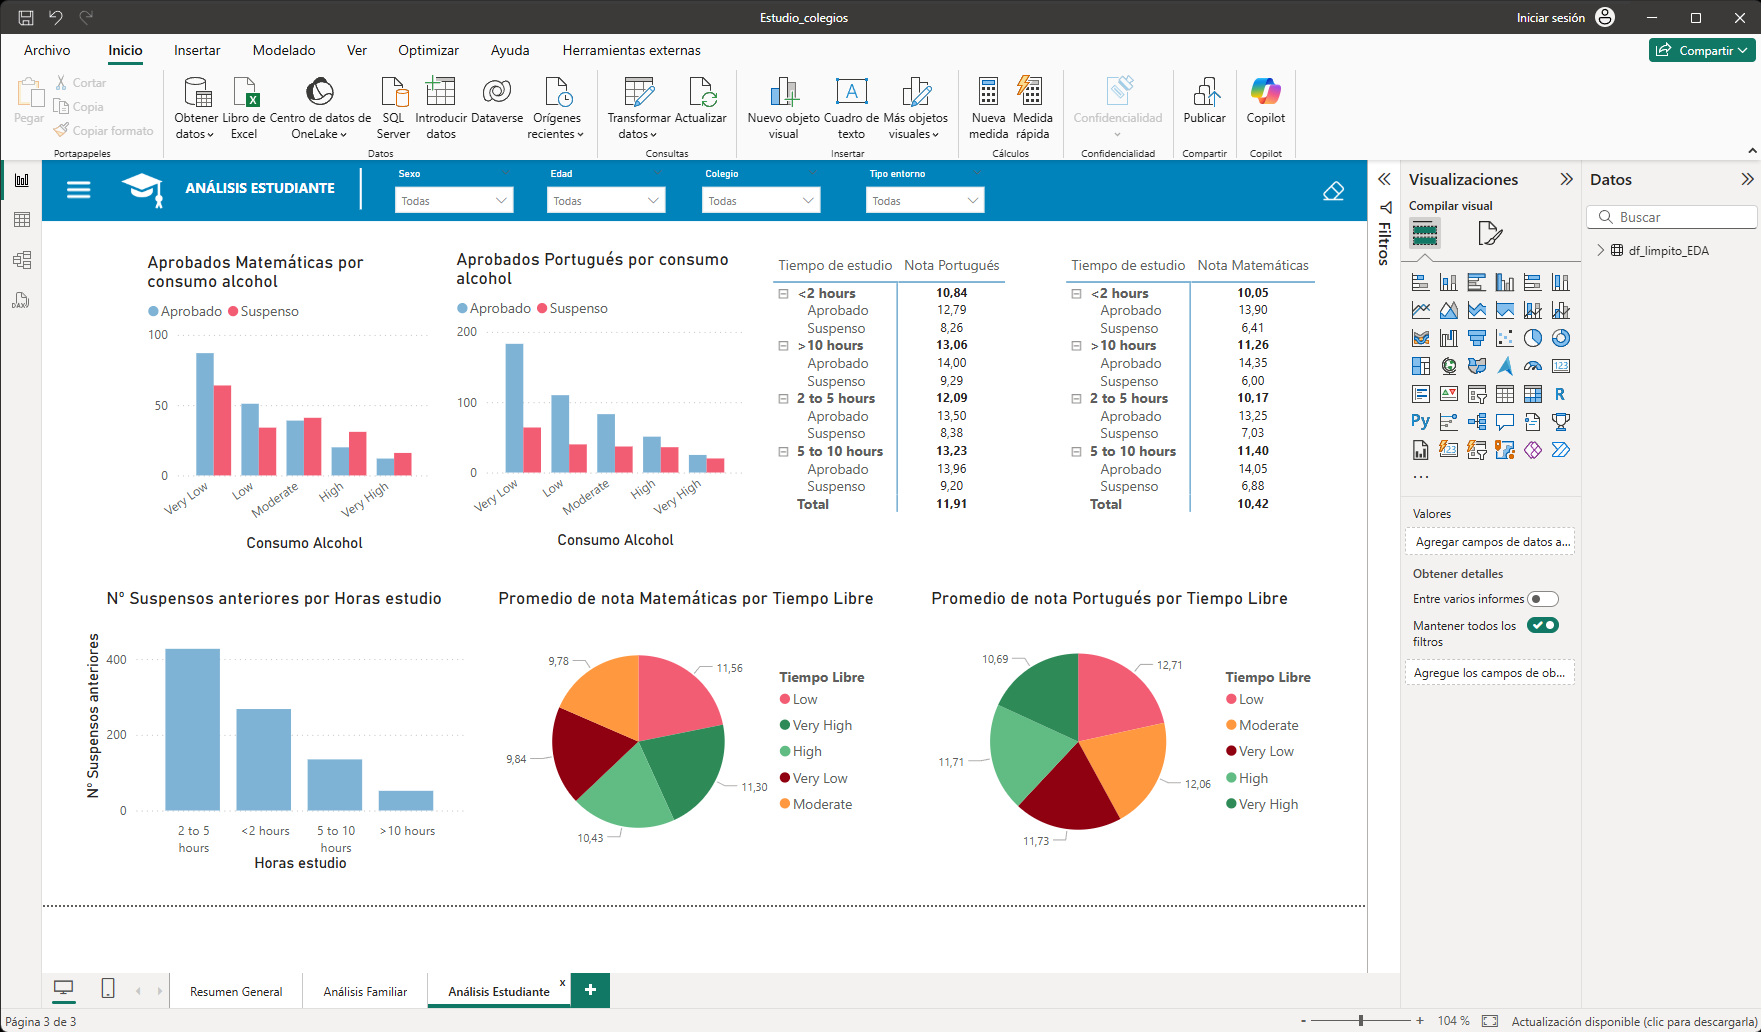

This screenshot's page, from the dashboard's own definition file:
{"tool":"powerbi","page":{"name":"Análisis Estudiante","canvas":[1280,720],"ordinal":2},"visuals":[{"type":"shape","box":[0,0,1280.3,59],"z":0,"group":"g1"},{"type":"clusteredColumnChart","fields":{"Category":["df_limpito_EDA.StudyTime_Description"],"Y":["CountNonNull(df_limpito_EDA.failures)"]},"box":[35.7,412.9,377.1,280],"z":0},{"type":"group","id":"g1","title":"Área Cabecera","box":[0,0,1280.3,175.5],"z":1000},{"type":"image","title":"Icono Borrar","box":[1227.5,15,40,30],"z":1500},{"type":"image","title":"Icono Informe","box":[71.2,5,50,50],"z":2000,"group":"g1"},{"type":"pivotTable","fields":{"Rows":["df_limpito_EDA.StudyTime_Desc","df_limpito_EDA.Por_Status"],"Values":["Avg(df_limpito_EDA.por_score)"]},"box":[701.4,87.1,244.3,295.7],"z":2000},{"type":"image","title":"Icono Navegador","box":[15,9,40,40],"z":3000,"group":"g1"},{"type":"pivotTable","fields":{"Rows":["df_limpito_EDA.StudyTime_Desc","df_limpito_EDA.Math_Status"],"Values":["Avg(df_limpito_EDA.math_score)"]},"box":[984.3,87.1,264.3,295.7],"z":3000},{"type":"slicer","title":"Filtro Tipo Entorno","fields":{"Values":["df_limpito_EDA.address"]},"box":[786.4,3,134.3,52.9],"z":3500},{"type":"slicer","title":"Filtro Colegio","fields":{"Values":["df_limpito_EDA.school"]},"box":[628.4,2.5,133.8,52.5],"z":4000},{"type":"pieChart","title":"Promedio de nota Matemáticas por Tiempo Libre","fields":{"Category":["df_limpito_EDA.FreeTimeClassification"],"Y":["Avg(df_limpito_EDA.math_score)"]},"box":[435.7,412.9,381.4,280],"z":4000},{"type":"slicer","title":"Filtro Edad","fields":{"Values":["df_limpito_EDA.age"]},"box":[478.4,3,133.8,52.5],"z":5000},{"type":"pieChart","title":"Promedio de nota Portugués por Tiempo Libre","fields":{"Category":["df_limpito_EDA.FreeTimeClassification"],"Y":["Avg(df_limpito_EDA.por_score)"]},"box":[854.3,412.9,394.3,280],"z":5000},{"type":"slicer","title":"Filtro Sexo","fields":{"Values":["df_limpito_EDA.sex"]},"box":[330.9,3,133.8,53],"z":6000},{"type":"clusteredColumnChart","title":"Aprobados Matemáticas por consumo alcohol","fields":{"Category":["df_limpito_EDA.WAlc_Desc"],"Y":["CountNonNull(df_limpito_EDA.Math_Status)"],"Series":["df_limpito_EDA.Math_Status"]},"box":[96.2,87.5,283.8,295],"z":6000},{"type":"clusteredColumnChart","title":"Aprobados Portugués por consumo alcohol","fields":{"Category":["df_limpito_EDA.WAlc_Desc"],"Y":["CountNonNull(df_limpito_EDA.Por_Status)"],"Series":["df_limpito_EDA.Por_Status"]},"box":[395,85,287.5,295],"z":7000},{"type":"shape","title":"Línea","box":[279.5,8,57.5,40],"z":8000,"group":"g1"},{"type":"textbox","title":"Título","box":[133.2,12.5,167.5,35],"z":9000,"group":"g1"}]}

Visuals, with their boxes on the page's 1280x720 design canvas (x1, y1, x2, y2). These are canvas units, not pixel positions in the 1761x1032 screenshot, which may show the page scaled, cropped or inside an application window:
shape: [0, 0, 1280, 59]
clusteredColumnChart - df_limpito_EDA.StudyTime_Description x CountNonNull(df_limpito_EDA.failures): [36, 413, 413, 693]
"Área Cabecera" group: [0, 0, 1280, 176]
"Icono Borrar" image: [1228, 15, 1268, 45]
"Icono Informe" image: [71, 5, 121, 55]
pivotTable - df_limpito_EDA.StudyTime_Desc x df_limpito_EDA.Por_Status: [701, 87, 946, 383]
"Icono Navegador" image: [15, 9, 55, 49]
pivotTable - df_limpito_EDA.StudyTime_Desc x df_limpito_EDA.Math_Status: [984, 87, 1249, 383]
"Filtro Tipo Entorno" slicer: [786, 3, 921, 56]
"Filtro Colegio" slicer: [628, 2, 762, 55]
"Promedio de nota Matemáticas por Tiempo Libre" pieChart: [436, 413, 817, 693]
"Filtro Edad" slicer: [478, 3, 612, 56]
"Promedio de nota Portugués por Tiempo Libre" pieChart: [854, 413, 1249, 693]
"Filtro Sexo" slicer: [331, 3, 465, 56]
"Aprobados Matemáticas por consumo alcohol" clusteredColumnChart: [96, 88, 380, 382]
"Aprobados Portugués por consumo alcohol" clusteredColumnChart: [395, 85, 682, 380]
"Línea" shape: [280, 8, 337, 48]
"Título" textbox: [133, 12, 301, 48]
